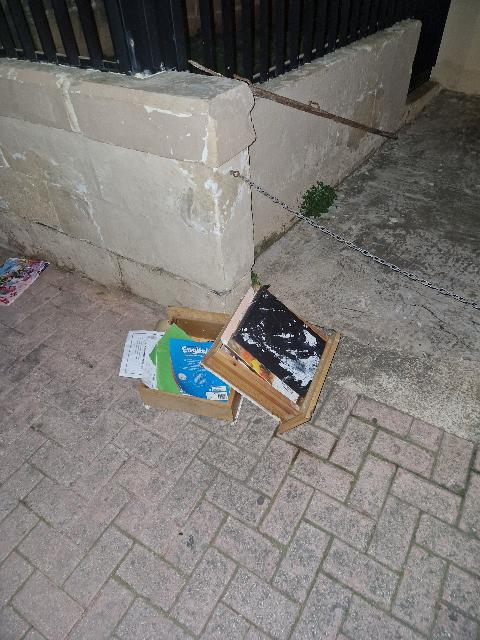Other: (139, 284, 340, 433), (0, 258, 49, 306)
